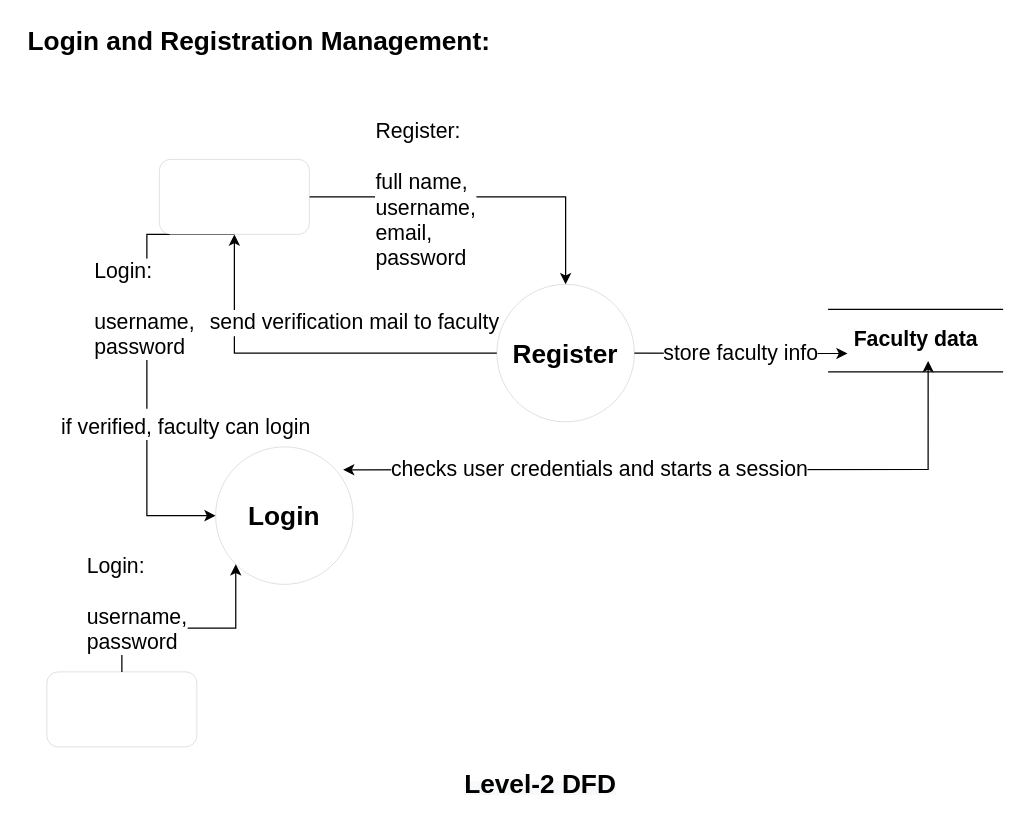
The diagram is 1026 pixels wide and 830 high, and some of its shapes have lost their labels. The centre of each missing label's shape, as x and y in pixels:
Administrator: [121,708]
Faculty: [234,196]
